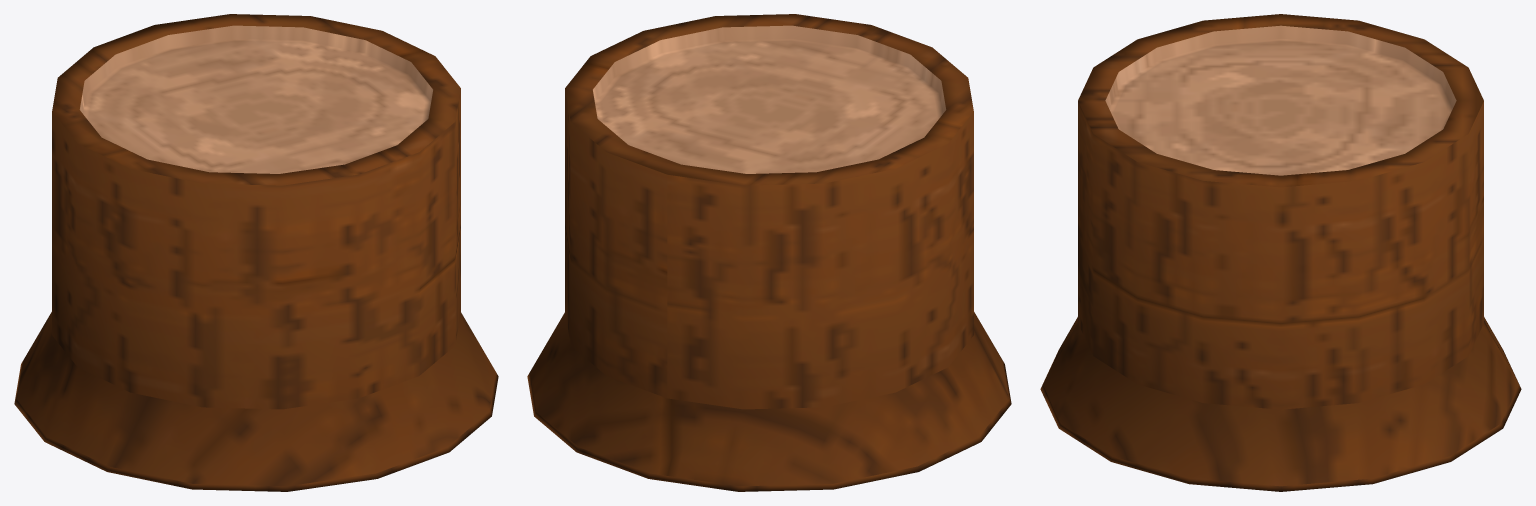
Rendered from Arvore_Cortada.fbx.
3 renders of one model, left to right at view 1: azimuth 30°, elevation 25°; view 2: azimuth 150°, elevation 25°; view 3: azimuth 270°, elevation 25°, orthographic.
Visible parts, largest first — view 1: Tree_Cut; view 2: Tree_Cut; view 3: Tree_Cut.
Boxes of the visible parts, x1,y1,x2,y2 form: Tree_Cut: [14, 14, 498, 491]; Tree_Cut: [527, 14, 1011, 491]; Tree_Cut: [1040, 14, 1521, 491].
Bounding box in the file's own units: 303 × 199 × 300.
